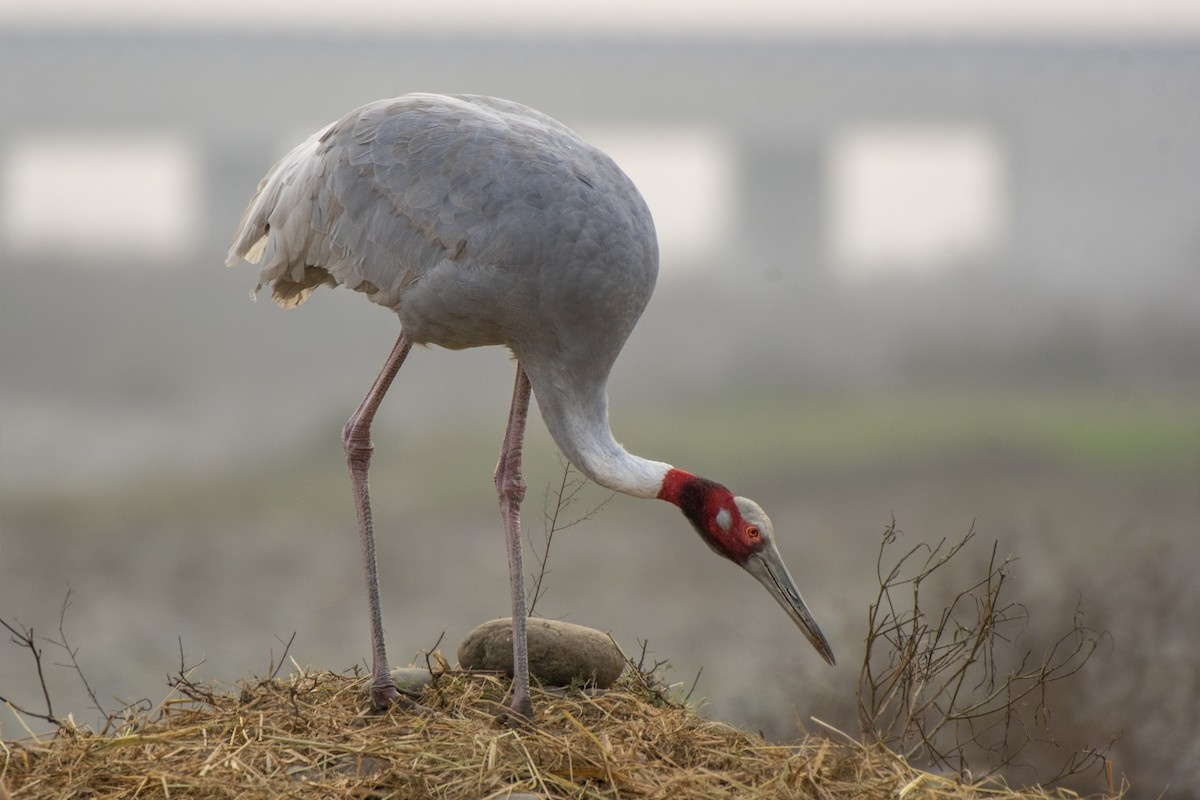crane: (227, 83, 852, 715)
